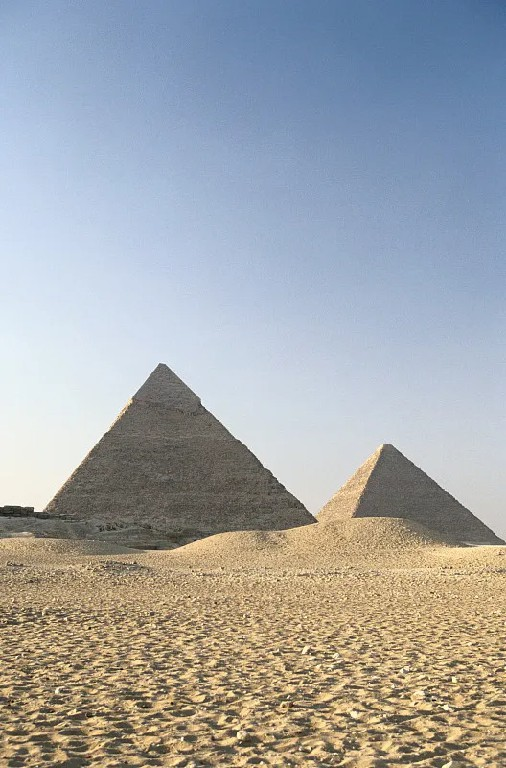Pyramid: (46, 364, 318, 531), (316, 444, 506, 548)
